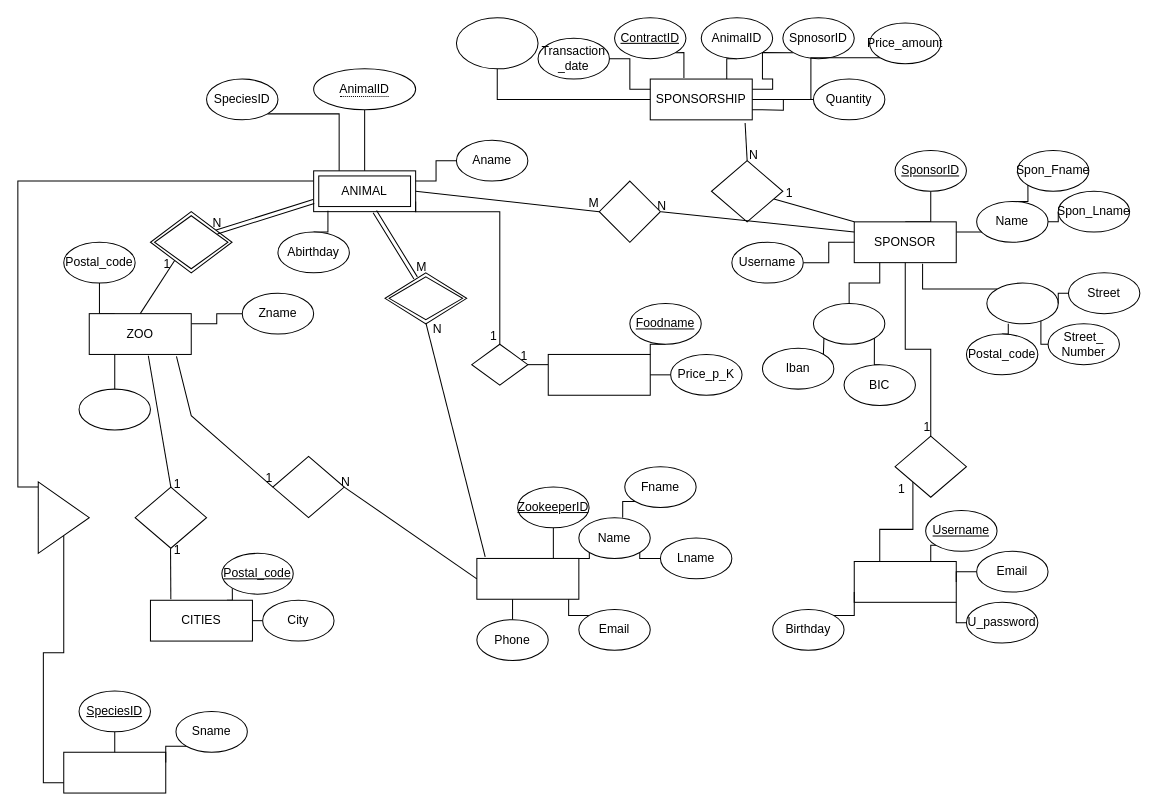
This 1158x811 diagram has some shape labels left out. The shapes that lost their labels are listed below. From the top down, each one's centre as x and y in pixels, then its label:
At (496,43): "Contract_ start_ date".
At (629,211): "Sponsors".
At (746,191): "Pays_for".
At (190,242): "Lives_in".
At (425,298): "works_ with".
At (1022,303): "Address".
At (848,323): "Bank account".
At (499,364): "Eats".
At (598,374): "FOOD".
At (114,409): "ZooID".
At (308,486): "Works_in".
At (930,466): "Become".
At (63,517): "Is_a".
At (170,517): "Is_in".
At (527,578): "ZOOKEEPER".
At (904,581): "USERS".
At (114,772): "SPECIES".
